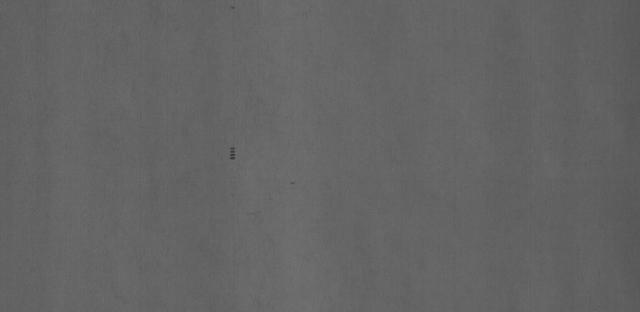oil_spot: (228, 145, 238, 163)
